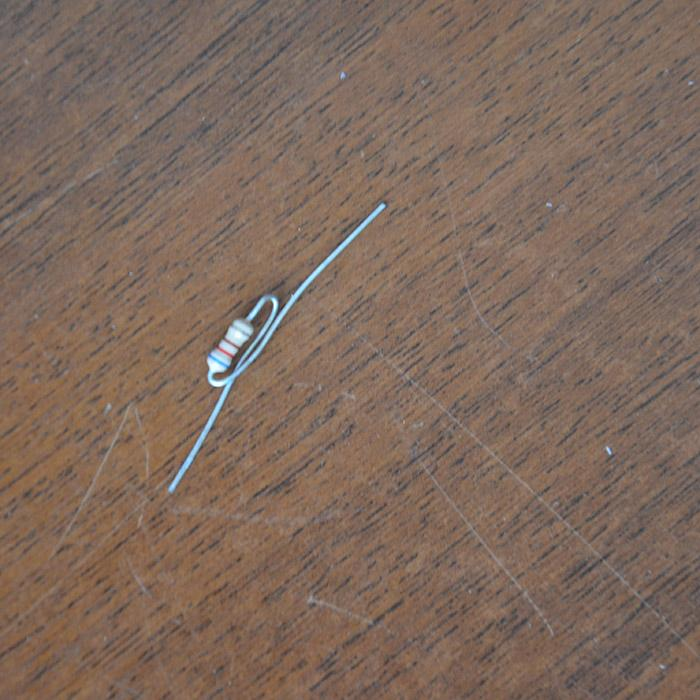resistor: (206, 317, 254, 375)
